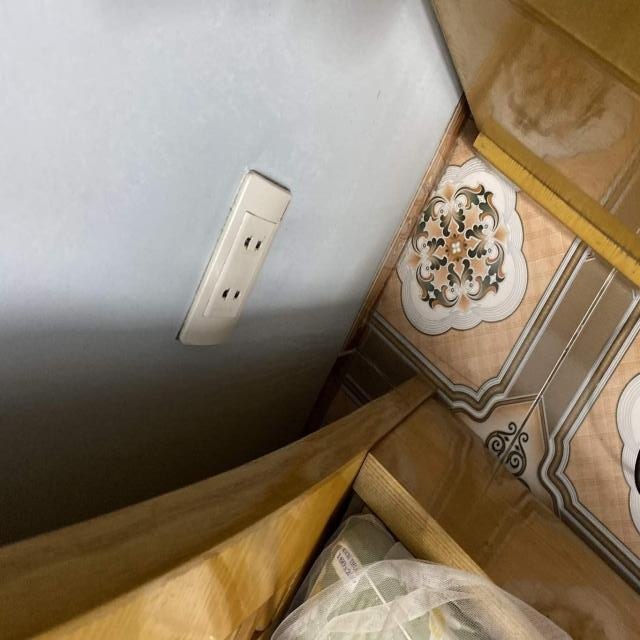outlet: (176, 170, 292, 347)
